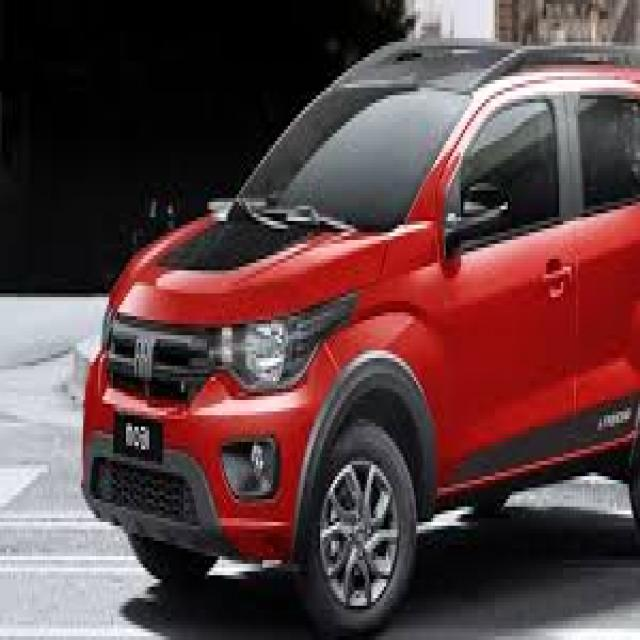car: (86, 8, 640, 620)
